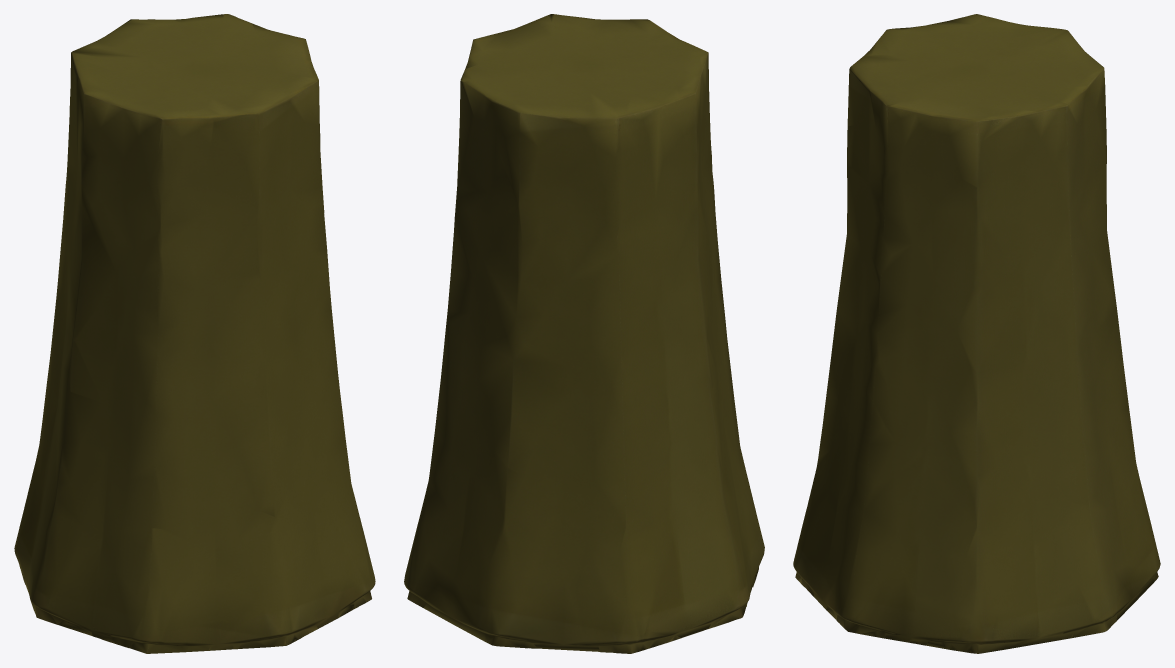
Rendered from Meshy_AI_Faceted_Tree_Stump_0513140604_texture.fbx.
3 views of the same model, side by side, from view 1: azimuth 30°, elevation 25°; view 2: azimuth 150°, elevation 25°; view 3: azimuth 270°, elevation 25° (orthographic).
Visible parts, largest first — view 1: Mesh_0; view 2: Mesh_0; view 3: Mesh_0.
Boxes of the visible parts, box(x1,y1,x2,y2) form: Mesh_0: box(14, 14, 375, 653); Mesh_0: box(404, 14, 764, 653); Mesh_0: box(793, 14, 1160, 653).
Bounding box in the file's own units: 125 × 191 × 125.
Materials: 1 (1 with a texture image).
